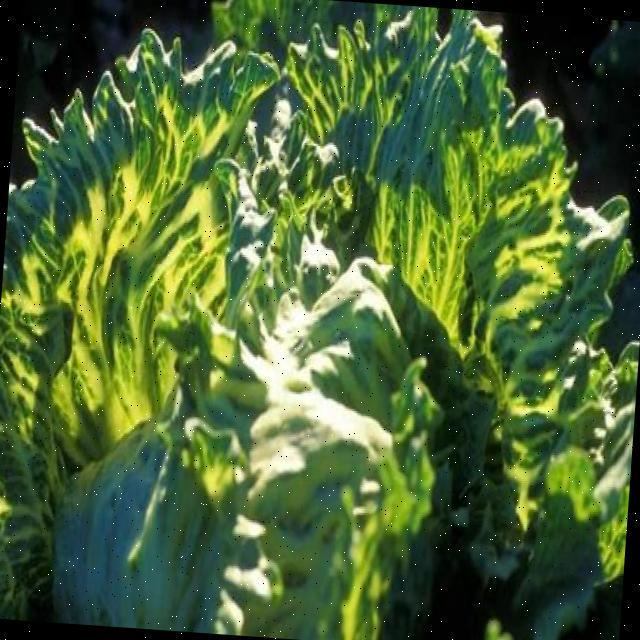Powdery_Mildew: (46, 133, 569, 627)
